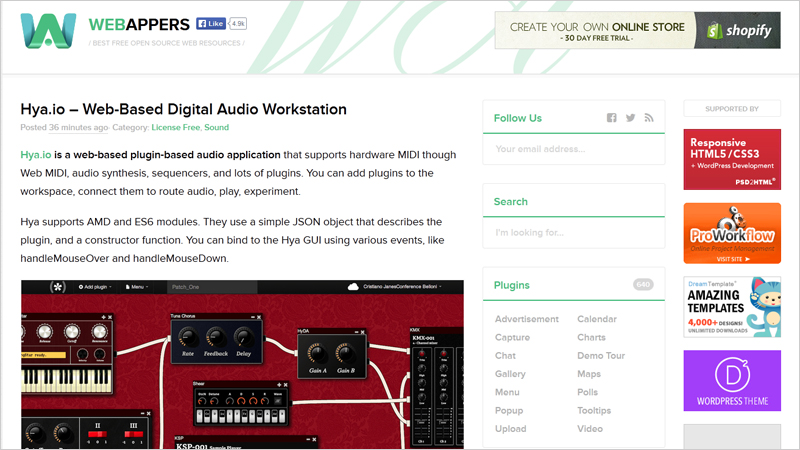Side Bar: (482, 103, 680, 450), (681, 102, 785, 449)
